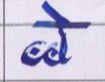e_matra: (40, 2, 72, 22)
